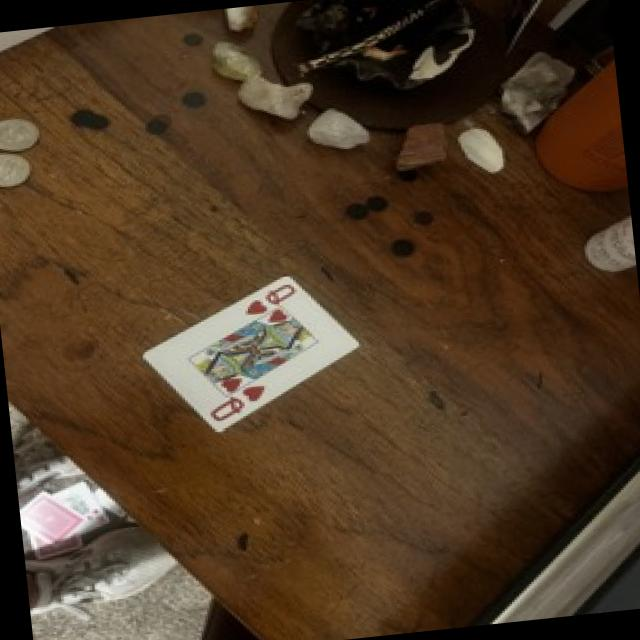Queen of hearts: (143, 277, 358, 430)
